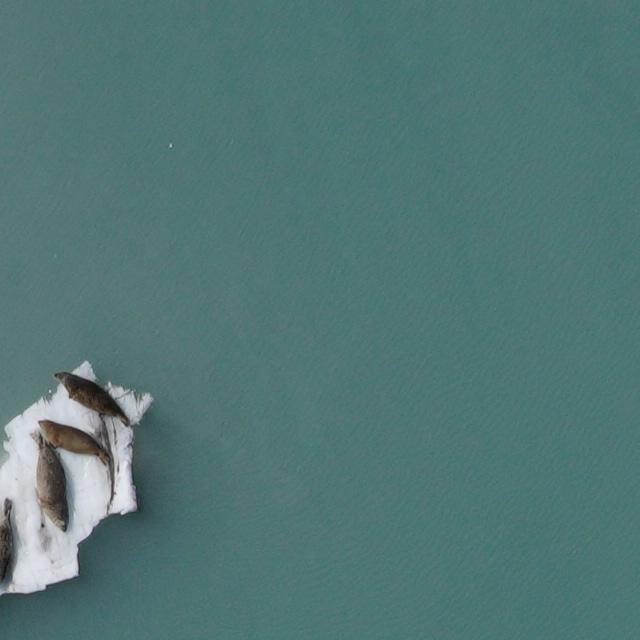seal: (46, 362, 139, 431), (27, 427, 73, 537), (33, 418, 115, 466), (0, 500, 14, 583)
